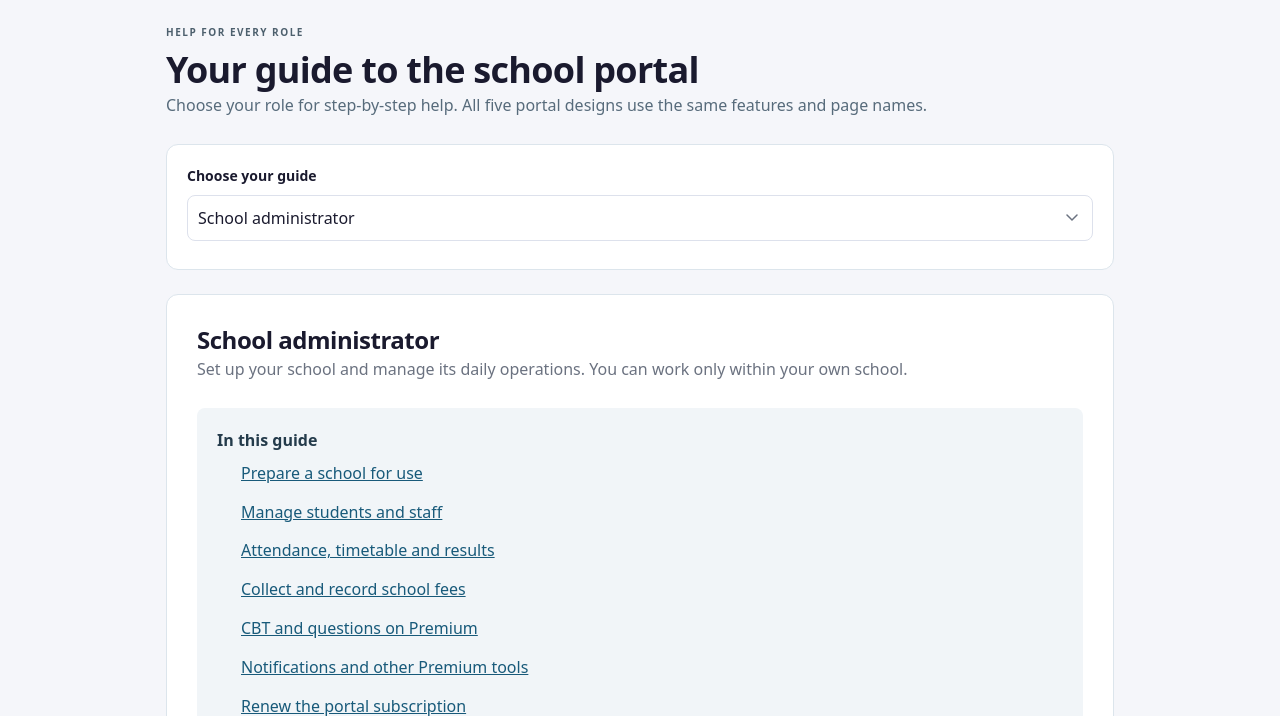
Scenario: can switch to getting-started instructions
Select "Getting started" in the dropdown labelled "Choose your guide": (640, 218) [187,195,1093,241]
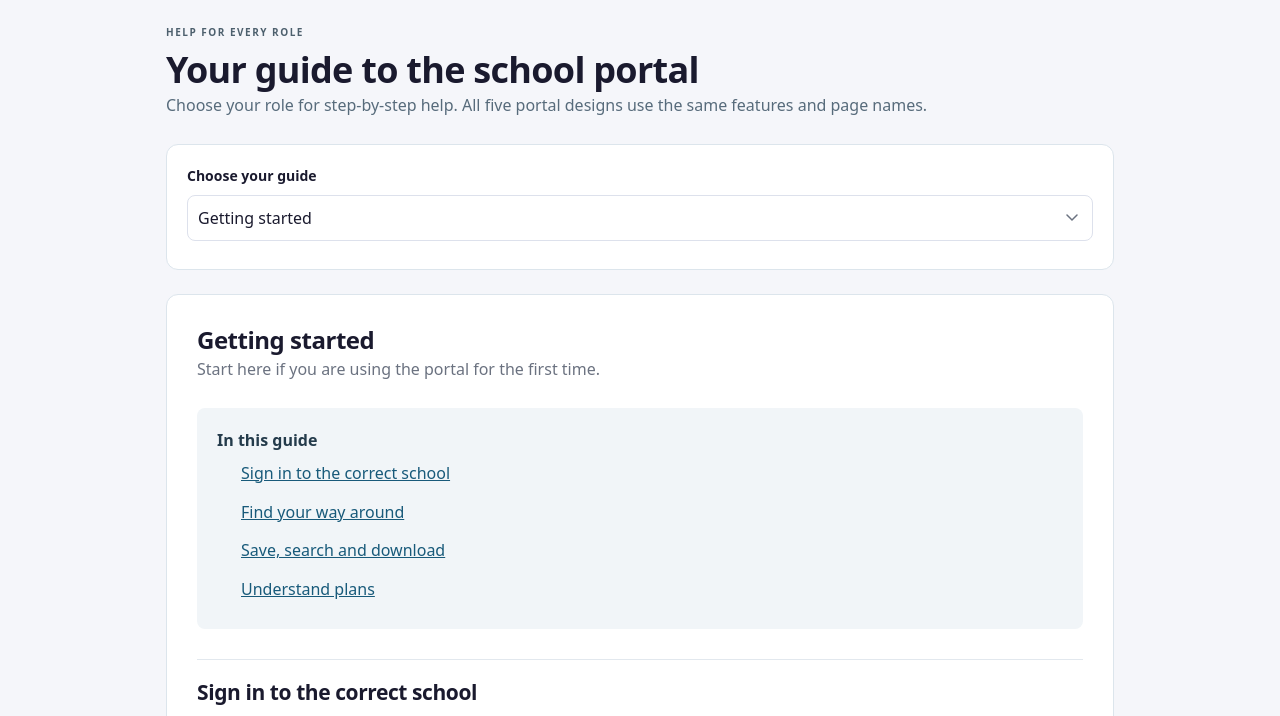
Now the heading "Getting started" is shown, box [197,323,374,356]
